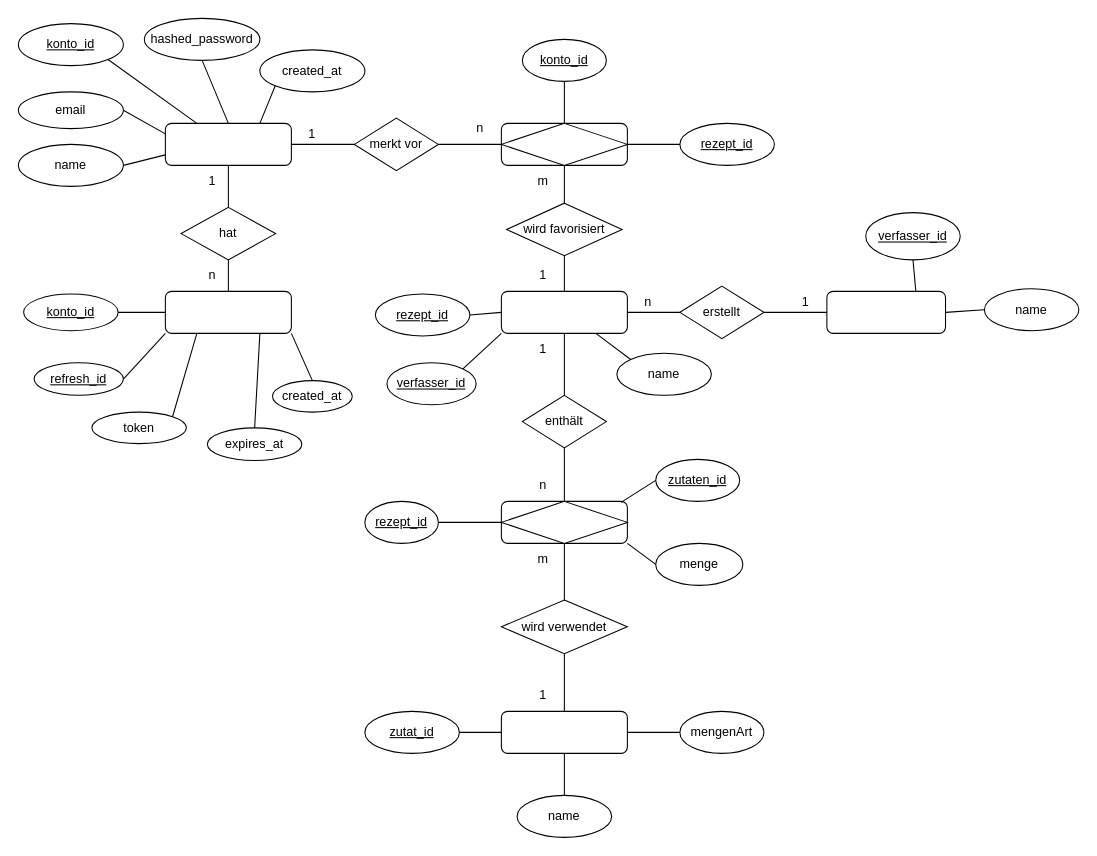
Image size: 1097x856. Some labels were removed from this diagram. The shapes that lost their labels are listed below. From the top down, each one's centre as x and y in pixels, then its label:
(227,143): Konto
(563,143): Favoriten
(227,311): RefreshToken
(563,311): Rezept
(886,311): Verfasser
(563,521): besteht_aus
(563,731): Zutat
